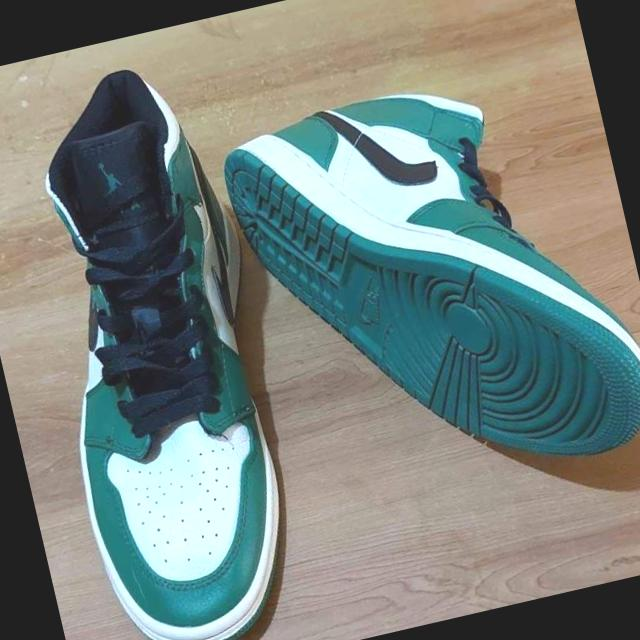nike_fake_jordan: (0, 49, 333, 640)
